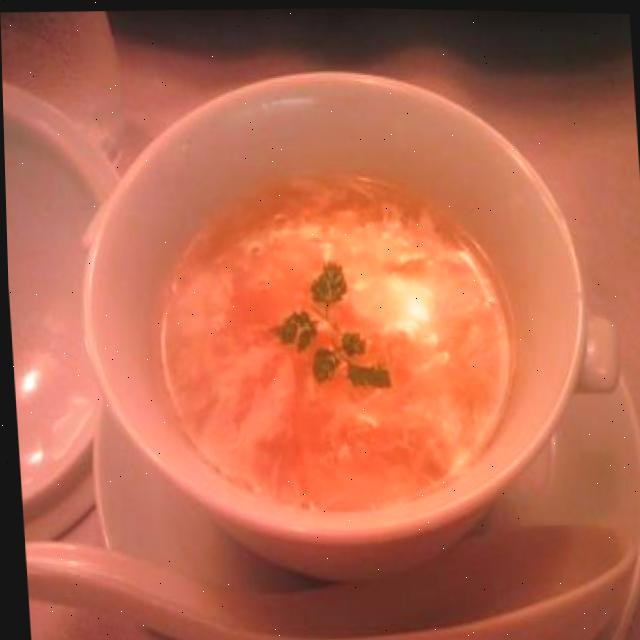汤锅炖物: (72, 46, 640, 582)
